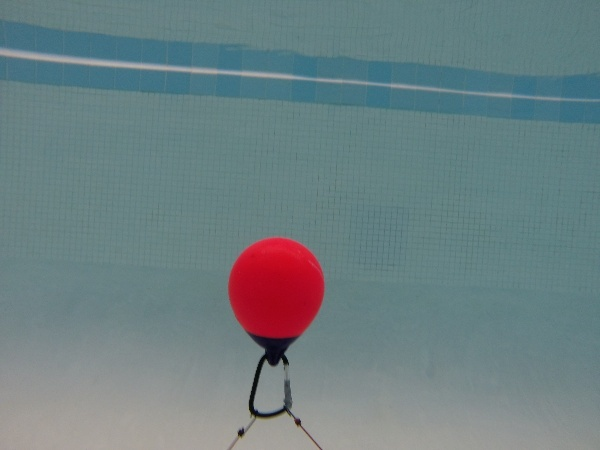buoy_red: (226, 236, 326, 364)
